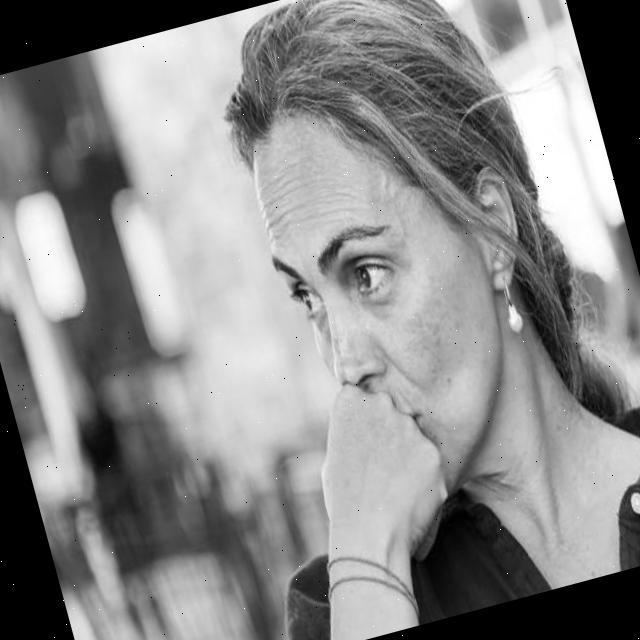Sadness: (232, 71, 544, 522)
